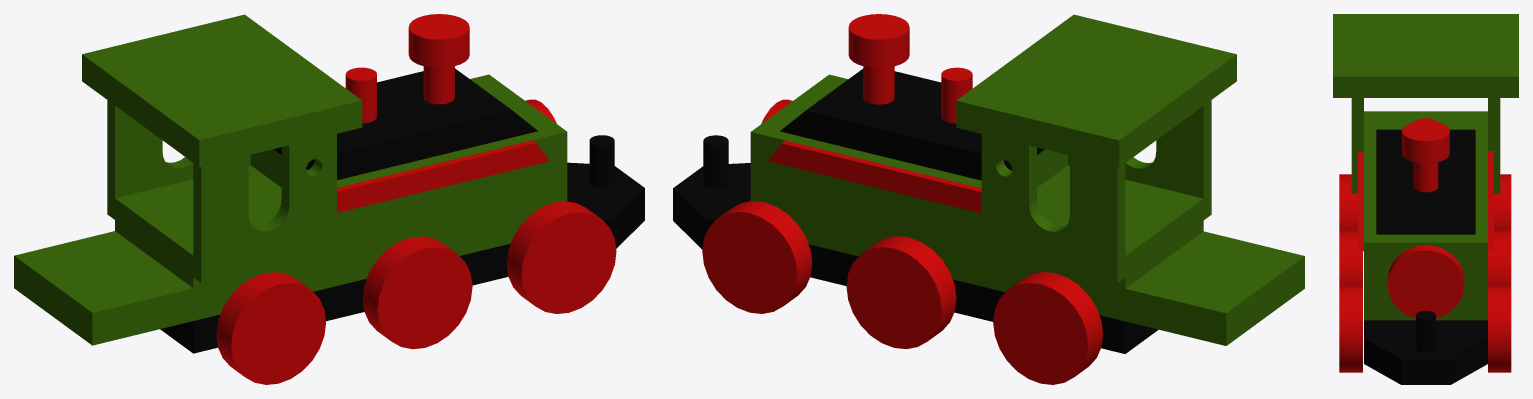
The model's file is train.dae.
3 renders of one model, left to right at view 1: azimuth 30°, elevation 25°; view 2: azimuth 150°, elevation 25°; view 3: azimuth 270°, elevation 25°, orthographic. The views are drawn at different scales.
Visible parts, largest first — view 1: Component_11 (×3), Component_5, Component_2, Component_4 (×2), Component_3, Component_7, Component_1 (×2), Component_6, Component_12, Component_9, Component_8 (×2); view 2: Component_11 (×3), Component_5, Component_2, Component_4 (×2), Component_3, Component_7, Component_1 (×2), Component_6, Component_12, Component_9, Component_8 (×2); view 3: Component_5, Component_11 (×6), Component_7, Component_1 (×2), Component_6, Component_10, Component_2, Component_3, Component_4 (×2), Component_9, Component_12 (×2), Component_8.
Boxes of the visible parts, box(x1,y1,x2,y2) form: Component_11 (×3): box(216, 201, 616, 384); Component_5: box(82, 14, 362, 167); Component_2: box(14, 197, 567, 345); Component_4 (×2): box(107, 100, 336, 282); Component_3: box(115, 164, 567, 288); Component_7: box(274, 68, 537, 180); Component_1 (×2): box(160, 135, 644, 353); Component_6: box(250, 74, 567, 220); Component_12: box(337, 140, 549, 212); Component_9: box(408, 14, 469, 67); Component_8 (×2): box(345, 66, 454, 123); Component_11 (×3): box(702, 201, 1102, 384); Component_5: box(956, 14, 1236, 167); Component_2: box(750, 197, 1304, 345); Component_4 (×2): box(981, 100, 1211, 283); Component_3: box(750, 165, 1203, 288); Component_7: box(780, 69, 1044, 180); Component_1 (×2): box(673, 135, 1158, 353); Component_6: box(750, 74, 1067, 220); Component_12: box(768, 140, 981, 213); Component_9: box(848, 14, 909, 67); Component_8 (×2): box(863, 66, 972, 123); Component_5: box(1333, 14, 1518, 97); Component_11 (×6): box(1339, 174, 1511, 372); Component_7: box(1376, 129, 1475, 234); Component_1 (×2): box(1364, 311, 1487, 384); Component_6: box(1364, 151, 1487, 268); Component_10: box(1387, 245, 1464, 318); Component_2: box(1364, 111, 1487, 320); Component_3: box(1364, 124, 1487, 294); Component_4 (×2): box(1351, 98, 1500, 193); Component_9: box(1402, 121, 1449, 163); Component_12 (×2): box(1358, 151, 1493, 251); Component_8: box(1413, 162, 1438, 192).
Size of the model in its own units: 16.71 by 5.91 by 7.39.
